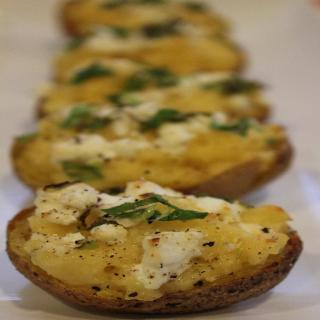Potato: (1, 205, 303, 316)
